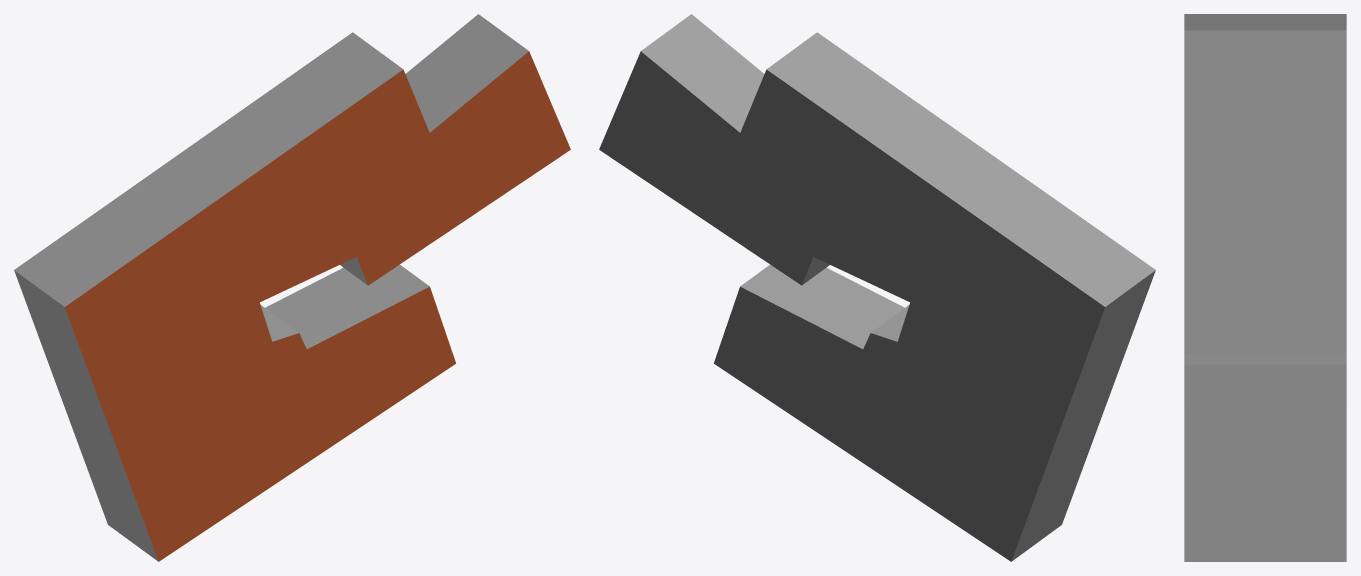
The model's file is construction_1530_assumed_A_Casa_h6m.obj.
The picture shows the model from 3 angles, left to right: view 1: azimuth 30°, elevation 25°; view 2: azimuth 150°, elevation 25°; view 3: azimuth 270°, elevation 25°; orthographic projection. The views are drawn at different scales.
Parts seen in each view (by area): view 1: construction_1530_assumed_A_Casa; view 2: construction_1530_assumed_A_Casa; view 3: construction_1530_assumed_A_Casa.
Boxes of the visible parts, x1=… form: construction_1530_assumed_A_Casa: x1=14, y1=14, x2=570, y2=561; construction_1530_assumed_A_Casa: x1=599, y1=14, x2=1155, y2=561; construction_1530_assumed_A_Casa: x1=1184, y1=14, x2=1346, y2=561.
Bounding box in the file's own units: 34.54 × 28.23 × 6.
